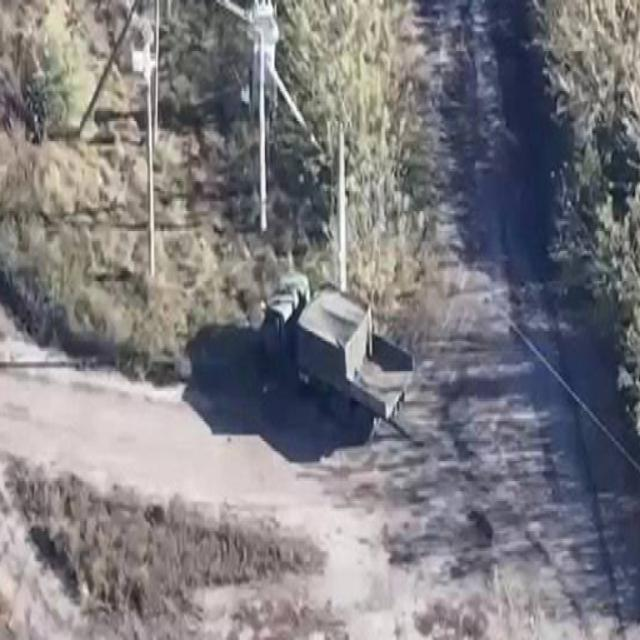TRUCK: (261, 272, 415, 436)
